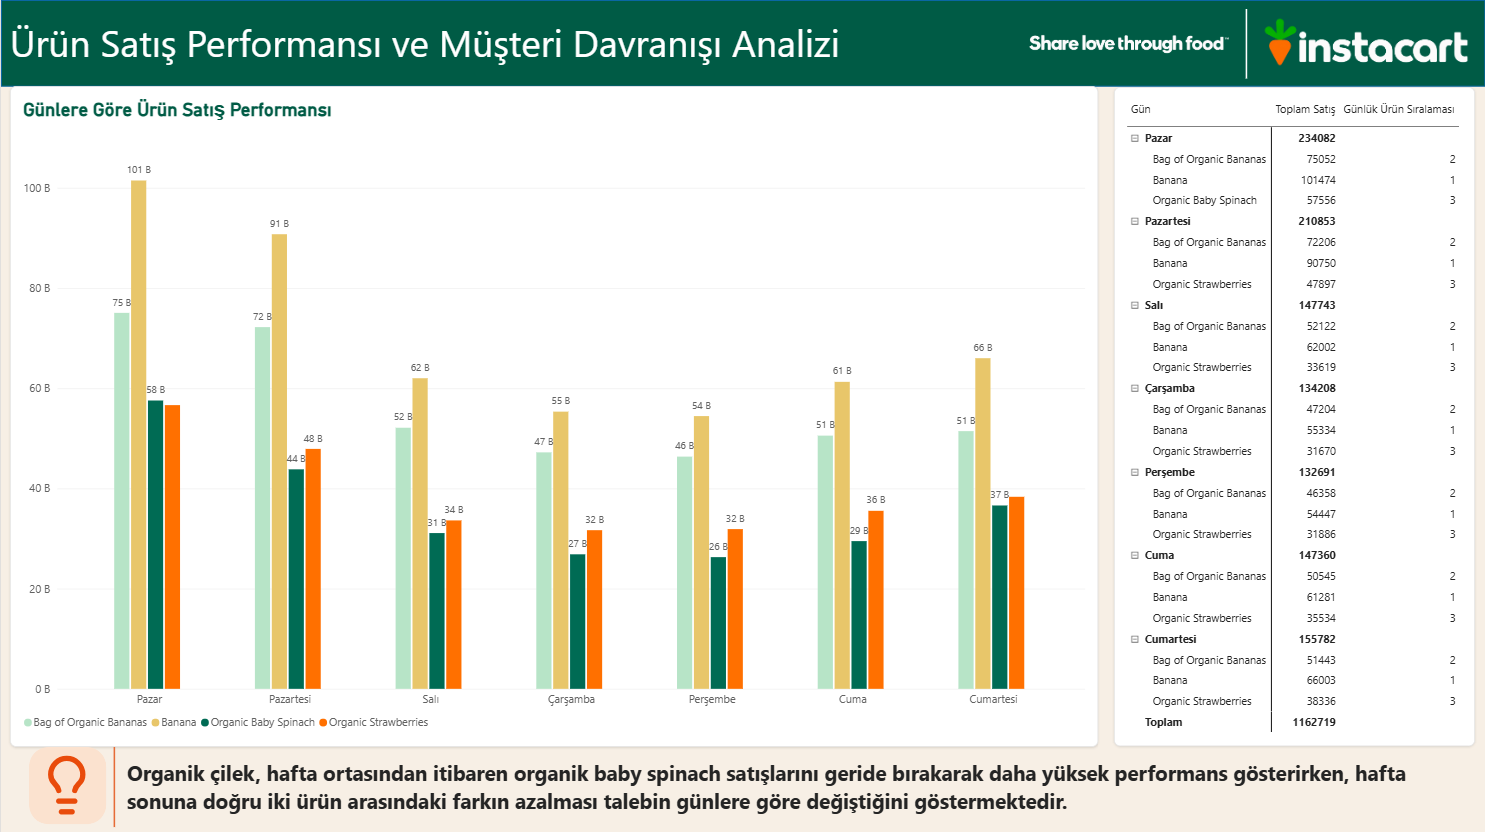

The page's visual inventory and layout, read from the dashboard file:
{"tool":"powerbi","page":{"name":"Ürün Satış Performansı ve Müşteri Davranışı Analizi","canvas":[1920,1080],"ordinal":8},"visuals":[{"type":"shape","box":[0,0,1920.3,112],"z":0},{"type":"image","box":[1323.3,0,271.4,112.3],"z":0,"group":"g1"},{"type":"shape","box":[36.4,967.3,100,100],"z":0,"group":"g2"},{"type":"image","box":[1614.6,0,305.4,111.9],"z":1000},{"type":"shape","box":[1583,11.7,55.4,90.5],"z":1000,"group":"g1"},{"type":"image","box":[24.8,974.6,120.7,82.9],"z":1000,"group":"g2"},{"type":"clusteredColumnChart","title":"Günlere Göre Ürün Satış Performansı","fields":{"Category":["mart_product_daily_sales.day_name"],"Y":["mart_product_daily_sales.Toplam Satış"],"Series":["mart_product_daily_sales.product_name"]},"box":[11.7,110.9,1407.9,855],"z":2000},{"type":"shape","box":[114.1,967.1,65.7,103.6],"z":2000,"group":"g2"},{"type":"textbox","box":[163.4,981.9,1731.8,80.2],"z":3000},{"type":"pivotTable","fields":{"Values":["mart_product_daily_sales.Toplam Satış","mart_product_daily_sales.Günlük Ürün Sıralaması"],"Rows":["mart_product_daily_sales.day_name","mart_product_daily_sales.product_name"]},"box":[1440,112.3,466.9,853.5],"z":4000},{"type":"textbox","box":[11.7,21.9,1127.8,91],"z":5000},{"type":"group","id":"g1","title":"Grup 8","box":[1323.3,0,315.1,112.3],"z":6000},{"type":"group","id":"g2","title":"Grup 1","box":[24.8,967.1,154.9,103.6],"z":7000}]}

Visuals, with their boxes in screenshot pixels (x1, y1, x2, y2), scaled from the page's 1920x1080 canvas onto the 1485x832 screenshot:
shape: 0/0/1484/86
image: 1023/0/1233/87
shape: 28/745/105/822
image: 1249/0/1484/86
shape: 1224/9/1267/79
image: 19/751/113/815
"Günlere Göre Ürün Satış Performansı" clusteredColumnChart: 9/85/1098/744
shape: 88/745/139/825
textbox: 126/756/1466/818
pivotTable - mart_product_daily_sales.Toplam Satış x mart_product_daily_sales.Günlük Ürün Sıralaması: 1114/87/1475/744
textbox: 9/17/881/87
"Grup 8" group: 1023/0/1267/87
"Grup 1" group: 19/745/139/825
